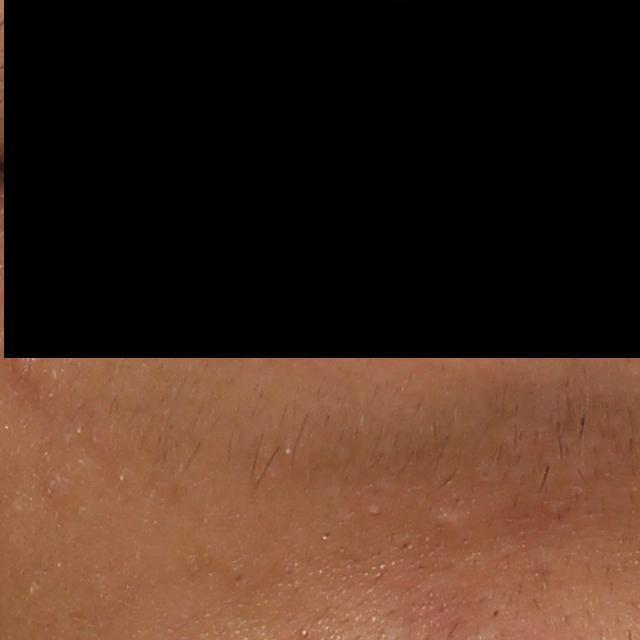comedo: (489, 605, 502, 619)
hypertrophic_scar: (433, 505, 485, 535)
